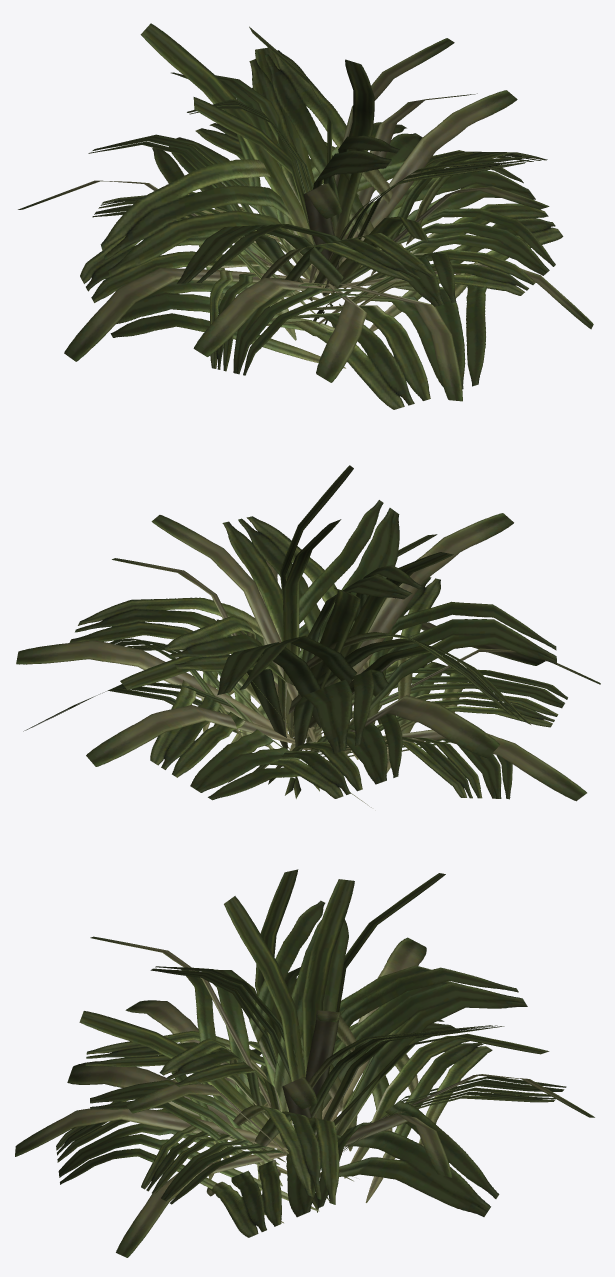
The model's file is reeds1.glb.
The picture shows the model from 3 angles, top to bottom: view 1: azimuth 30°, elevation 25°; view 2: azimuth 150°, elevation 25°; view 3: azimuth 270°, elevation 25°; orthographic projection.
Parts seen in each view (by area): view 1: Reeds1; view 2: Reeds1; view 3: Reeds1.
Part boxes in pixels (left/top/right/bottom): Reeds1: left=18, top=23, right=593, bottom=409; Reeds1: left=16, top=465, right=600, bottom=807; Reeds1: left=15, top=869, right=594, bottom=1257.
Bounding box in the file's own units: 3.85 × 2.34 × 3.95.
1 material, 1 textured.
